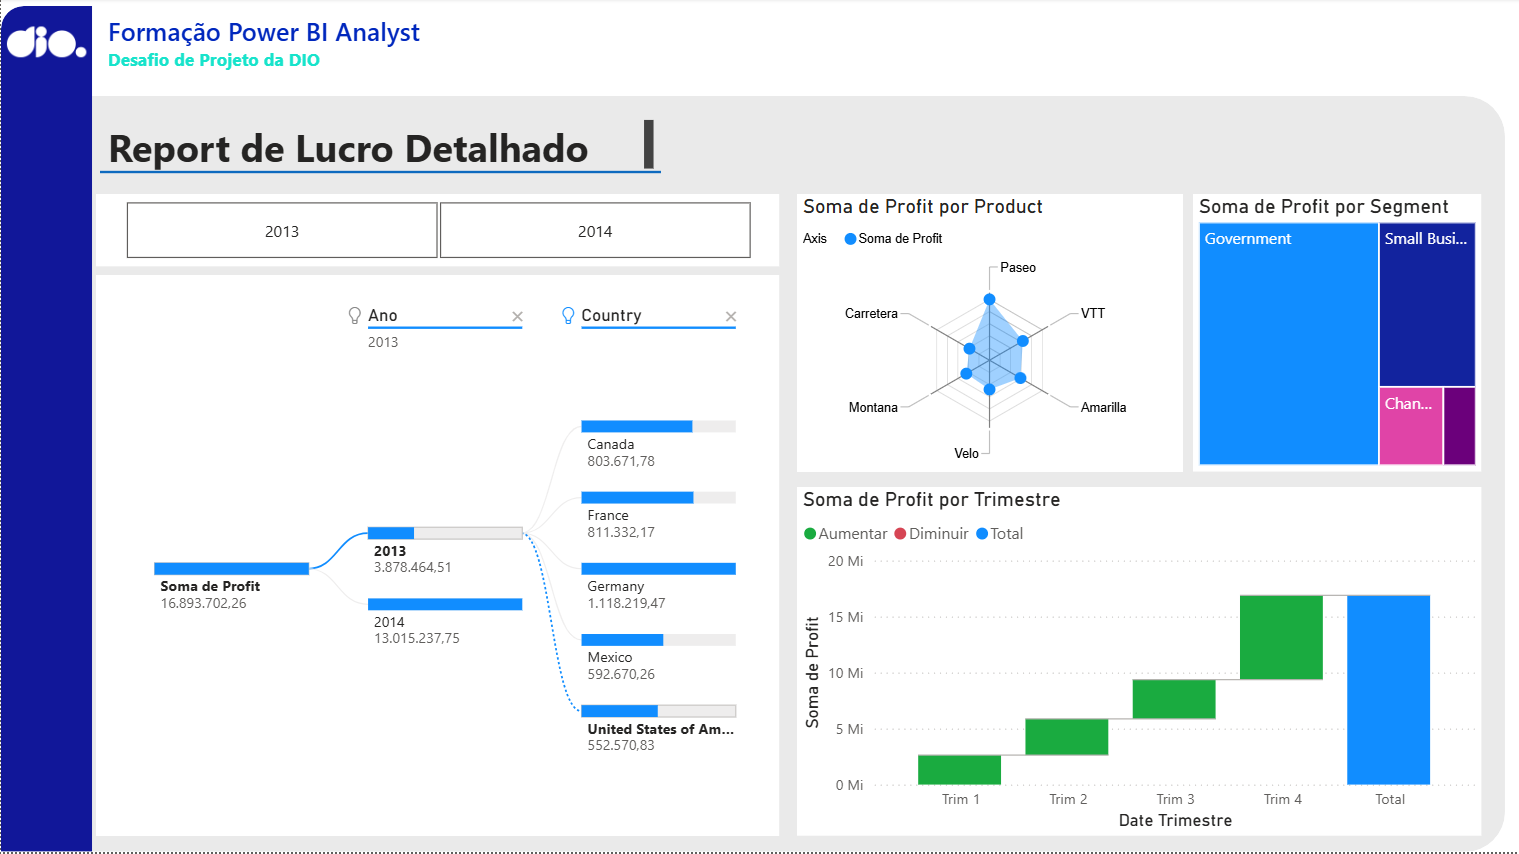

This screenshot's page, from the dashboard's own definition file:
{"tool":"powerbi","page":{"name":"Página 2","canvas":[1280,720],"ordinal":1},"visuals":[{"type":"shape","box":[42.6,82.5,1225.1,637.5],"z":0},{"type":"shape","box":[83.9,127.8,473,37.1],"z":0,"group":"g1"},{"type":"shape","title":"Fundo do Título","box":[0,0,1267.7,82.5],"z":1000},{"type":"textbox","box":[85.3,97.6,470.2,52.2],"z":1000,"group":"g1"},{"type":"shape","box":[79.7,233.7,576.1,473],"z":2000},{"type":"decompositionTreeVisual","fields":{"Analyze":["Sum(financials.Profit)"],"ExplainBy":["financials.Date.Variation.Hierarquia de datas.Ano","financials.Country"]},"box":[99.8,242.2,536.3,456.5],"z":3000},{"type":"waterfallChart","fields":{"Category":["financials.Date.Variation.Hierarquia de datas.Trimestre"],"Y":["Sum(financials.Profit)"]},"box":[670.9,412.5,577.4,294.2],"z":4000},{"type":"treemap","fields":{"Group":["financials.Segment"],"Values":["Sum(financials.Profit)"]},"box":[1005,165,243.4,233.7],"z":5000},{"type":"actionButton","box":[22,666.8,48.1,39.9],"z":6000},{"type":"group","id":"g1","title":"Sales report","box":[83.9,97.6,473,67.4],"z":7000},{"type":"actionButton","box":[12.8,545.8,57,105.5],"z":8000},{"type":"RadarChart1446119667547","fields":{"Y":["Sum(financials.Profit)"],"Category":["financials.Product"]},"box":[671,165,324.6,234],"z":9000},{"type":"slicer","fields":{"Values":["financials.Year"]},"box":[79.8,165,575.8,60.8],"z":10000},{"type":"shape","box":[0,7,77,713],"z":11000},{"type":"image","title":"logo_dio","box":[0.3,0,77,74],"z":12000},{"type":"textbox","box":[85.2,8.2,366,74],"z":13000}]}

Visuals, with their boxes on the page's 1280x720 design canvas (x1, y1, x2, y2). These are canvas units, not pixel positions in the 1519x854 screenshot, which may show the page scaled, cropped or inside an application window:
shape: left=43, top=82, right=1268, bottom=720
shape: left=84, top=128, right=557, bottom=165
"Fundo do Título" shape: left=0, top=0, right=1268, bottom=82
textbox: left=85, top=98, right=556, bottom=150
shape: left=80, top=234, right=656, bottom=707
decompositionTreeVisual - Sum(financials.Profit) x financials.Date.Variation.Hierarquia de datas.Ano: left=100, top=242, right=636, bottom=699
waterfallChart - financials.Date.Variation.Hierarquia de datas.Trimestre x Sum(financials.Profit): left=671, top=412, right=1248, bottom=707
treemap - financials.Segment x Sum(financials.Profit): left=1005, top=165, right=1248, bottom=399
actionButton: left=22, top=667, right=70, bottom=707
"Sales report" group: left=84, top=98, right=557, bottom=165
actionButton: left=13, top=546, right=70, bottom=651
RadarChart1446119667547 - Sum(financials.Profit) x financials.Product: left=671, top=165, right=996, bottom=399
slicer - financials.Year: left=80, top=165, right=656, bottom=226
shape: left=0, top=7, right=77, bottom=720
"logo_dio" image: left=0, top=0, right=77, bottom=74
textbox: left=85, top=8, right=451, bottom=82
